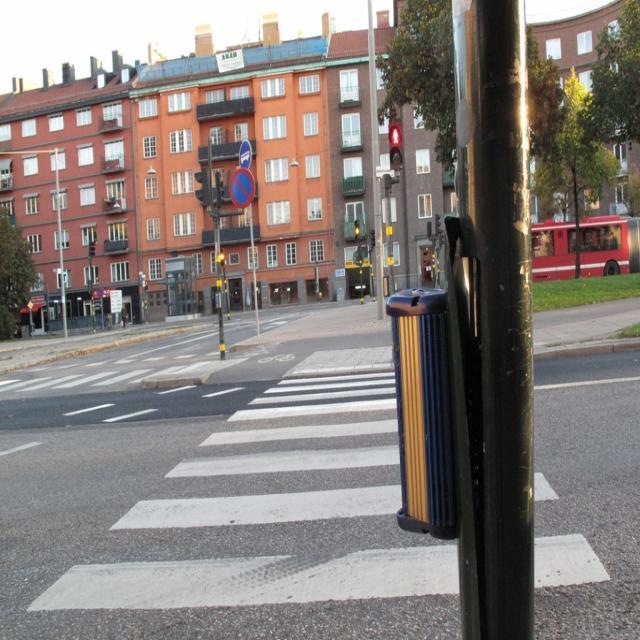off traffic light: (194, 167, 212, 205)
road_sign: (227, 167, 256, 207)
traffic light: (388, 124, 405, 169)
